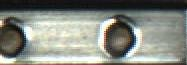joints: (97, 14, 139, 60), (0, 16, 27, 61)
